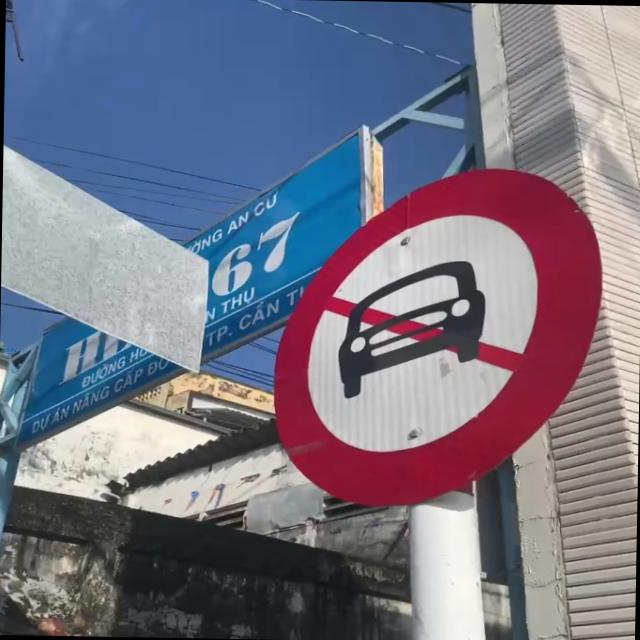Cam_O_To: (272, 160, 608, 512)
